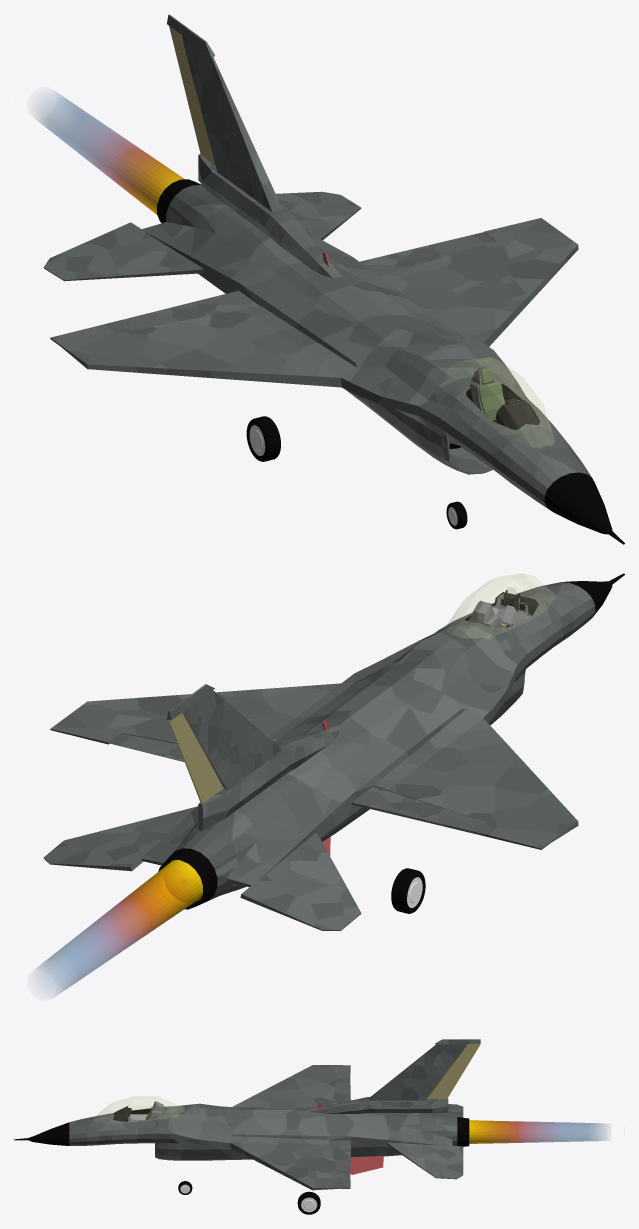
3 renders of one model, top to bottom at view 1: azimuth 30°, elevation 25°; view 2: azimuth 150°, elevation 25°; view 3: azimuth 270°, elevation 25°, orthographic. The views are drawn at different scales.
Parts seen in each view (by area): view 1: MainFrame, rudder_frame, Afterburner, right_elevator, cabin_glass_outside, left_elevator, right_aleron, left_aleron, rudder_0, CushionButt, wheel-rb, MainBody.001; view 2: MainFrame, rudder_frame, Afterburner, right_elevator, left_elevator, right_aleron, cabin_glass_outside, rudder_0, wheel-rb, left_aleron, MainBody.001, CushionButt; view 3: MainFrame, rudder_frame, Afterburner, left_elevator, cabin_glass_outside, rudder_0, left_aleron, bottom_left_aleron, wheel-lb, right_aleron, MainBody.001.
Part boxes in pixels (x1,y1,x2,y2): MainFrame: (50,179,624,544); rudder_frame: (167,14,341,278); Afterburner: (36,92,184,214); right_elevator: (43,222,204,281); cabin_glass_outside: (464,357,554,447); left_elevator: (276,191,361,240); right_aleron: (108,290,259,332); left_aleron: (360,232,495,276); rudder_0: (169,26,215,165); CushionButt: (470,367,504,420); wheel-rb: (246,416,280,461); MainBody.001: (492,398,539,429); MainFrame: (50,573,624,909); rudder_frame: (167,684,341,831); Afterburner: (36,860,202,997); right_elevator: (240,832,361,930); left_elevator: (43,806,196,871); right_aleron: (351,786,495,835); cabin_glass_outside: (444,573,554,629); rudder_0: (169,712,223,803); wheel-rb: (391,868,425,913); left_aleron: (108,733,184,761); MainBody.001: (491,592,538,628); CushionButt: (468,600,506,628); MainFrame: (14,1065,469,1190); rudder_frame: (305,1039,480,1113); Afterburner: (469,1120,606,1143); left_elevator: (387,1142,463,1179); cabin_glass_outside: (94,1096,182,1123); rudder_0: (427,1044,480,1098); left_aleron: (329,1140,350,1173); bottom_left_aleron: (350,1156,383,1174); wheel-lb: (297,1191,320,1214); right_aleron: (330,1079,350,1104); MainBody.001: (113,1106,148,1122).
Size of the model in its own units: 0.6487 by 0.385 by 1.36.
Materials: 68 (10 with a texture image).
